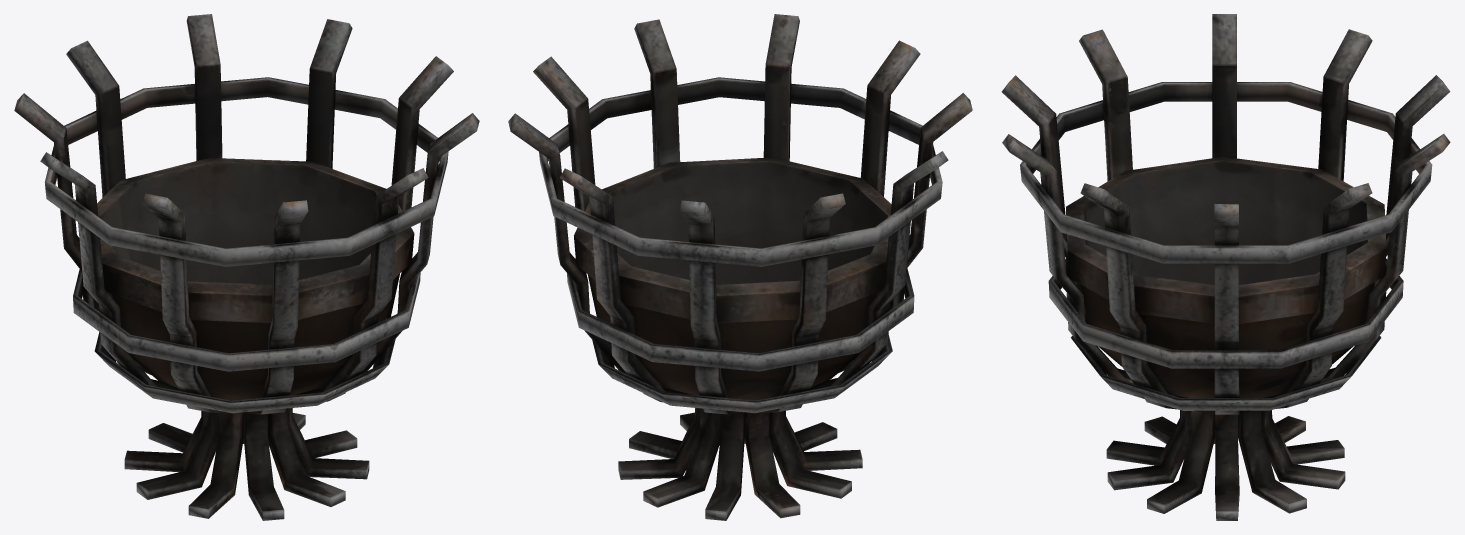
Rendered from meridian-beacon.glb.
3 renders of one model, left to right at view 1: azimuth 30°, elevation 25°; view 2: azimuth 150°, elevation 25°; view 3: azimuth 270°, elevation 25°, orthographic.
Visible parts, largest first — view 1: bra; view 2: bra; view 3: bra.
Boxes of the visible parts, bbox=[...] form: bra: bbox=[14, 14, 479, 520]; bra: bbox=[508, 14, 972, 520]; bra: bbox=[1001, 14, 1450, 520].
Size of the model in its own units: 106 by 90.71 by 102.
1 material, 1 textured.
